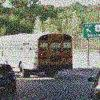buses: (0, 31, 75, 78)
